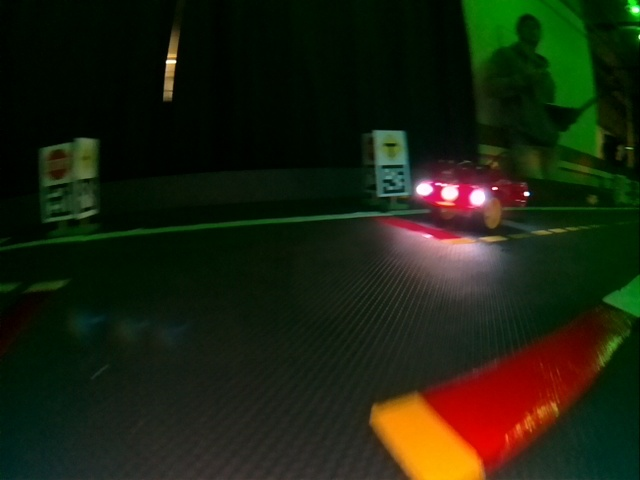Duckiebot: (416, 163, 529, 229)
Intersection sign: (77, 146, 96, 176), (381, 136, 404, 160)
QR code: (45, 186, 72, 220), (378, 163, 407, 192), (75, 181, 98, 214), (364, 165, 376, 189)
Stop sign: (41, 148, 69, 179), (367, 136, 376, 162)
